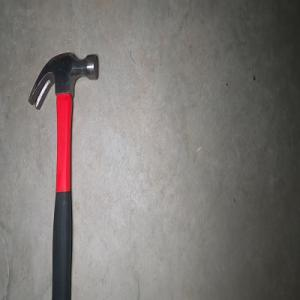Hammer: (26, 50, 99, 300)
